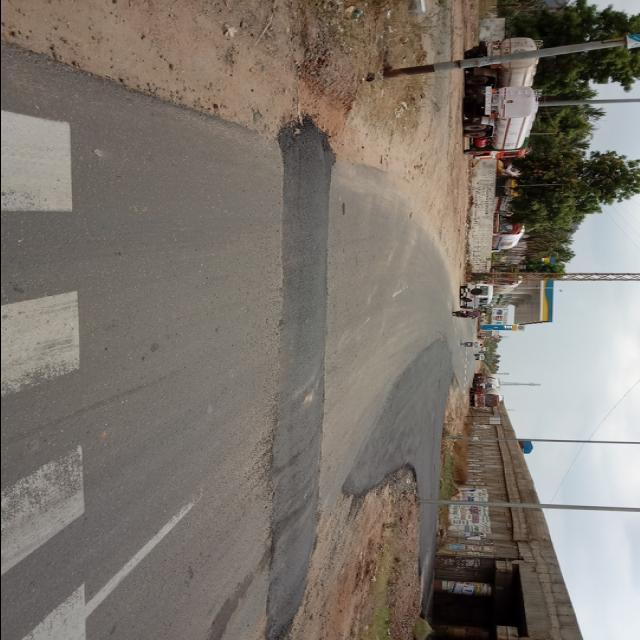speedbreaker: (271, 130, 339, 616)
